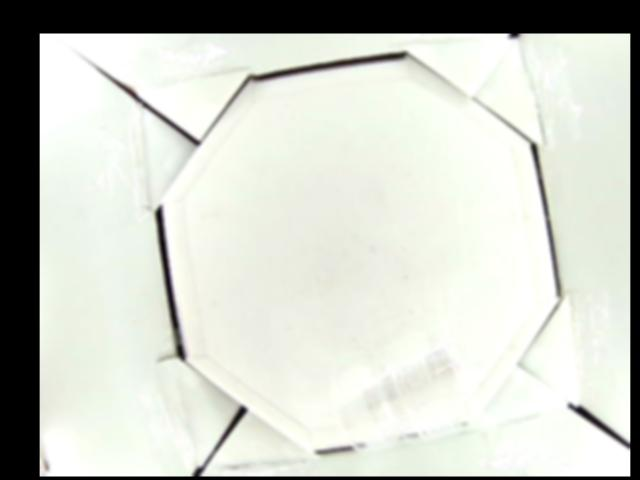Cup: (332, 321, 478, 451)
